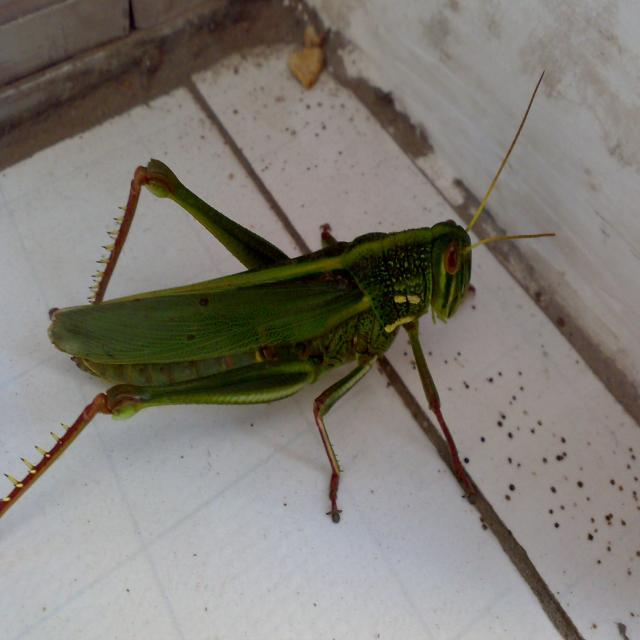ZhaMeng: (43, 32, 567, 536)
